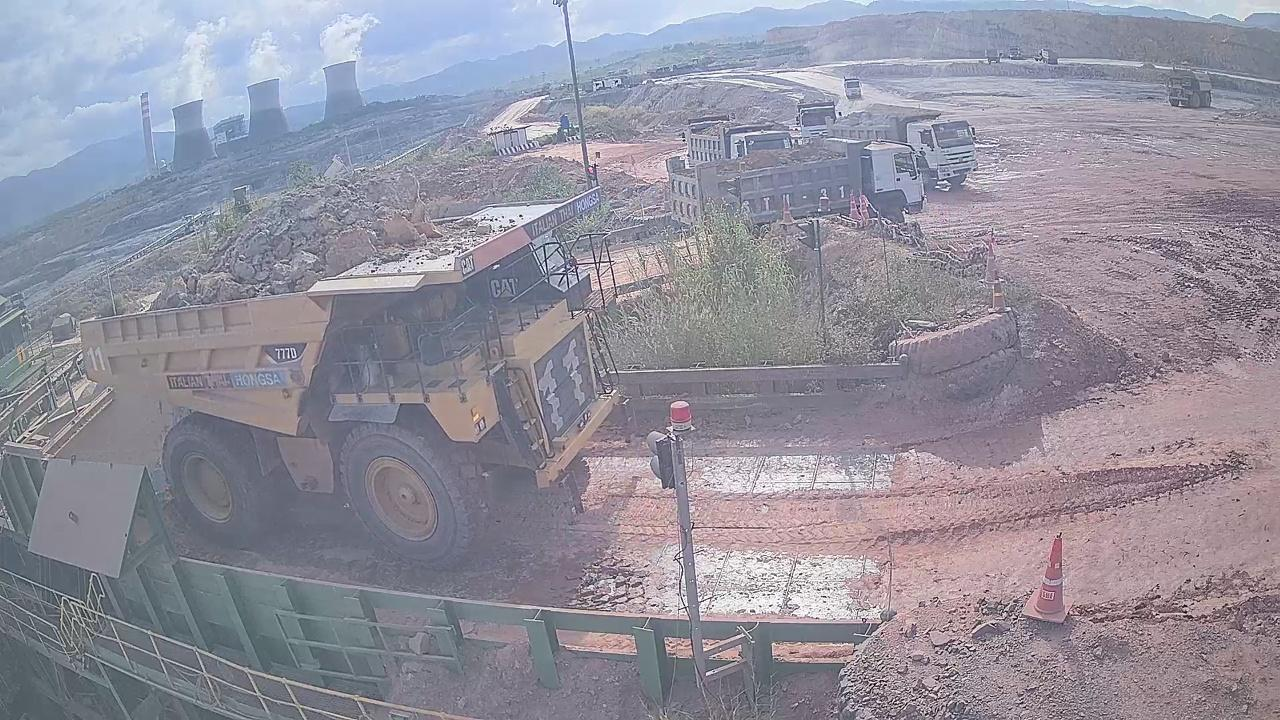company: (166, 370, 287, 391)
front_number: (531, 332, 600, 434)
full_load: (147, 186, 432, 309)
mining_truck: (76, 182, 633, 566)
tail_number: (83, 339, 109, 380)
truck_size: (260, 340, 303, 364)
